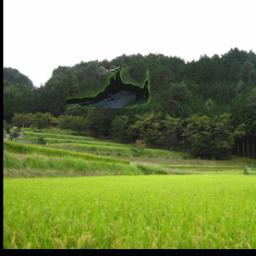Crow: (65, 67, 149, 109)
